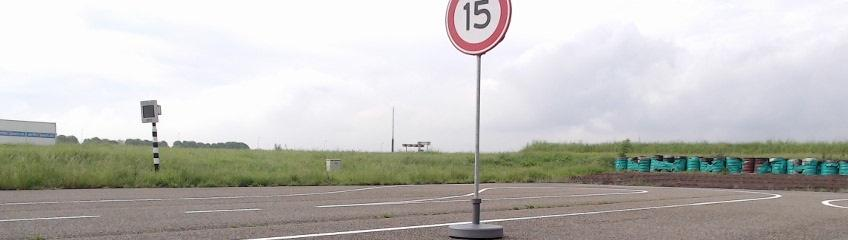Speed-limit-15km-h-: (445, 0, 511, 55)
